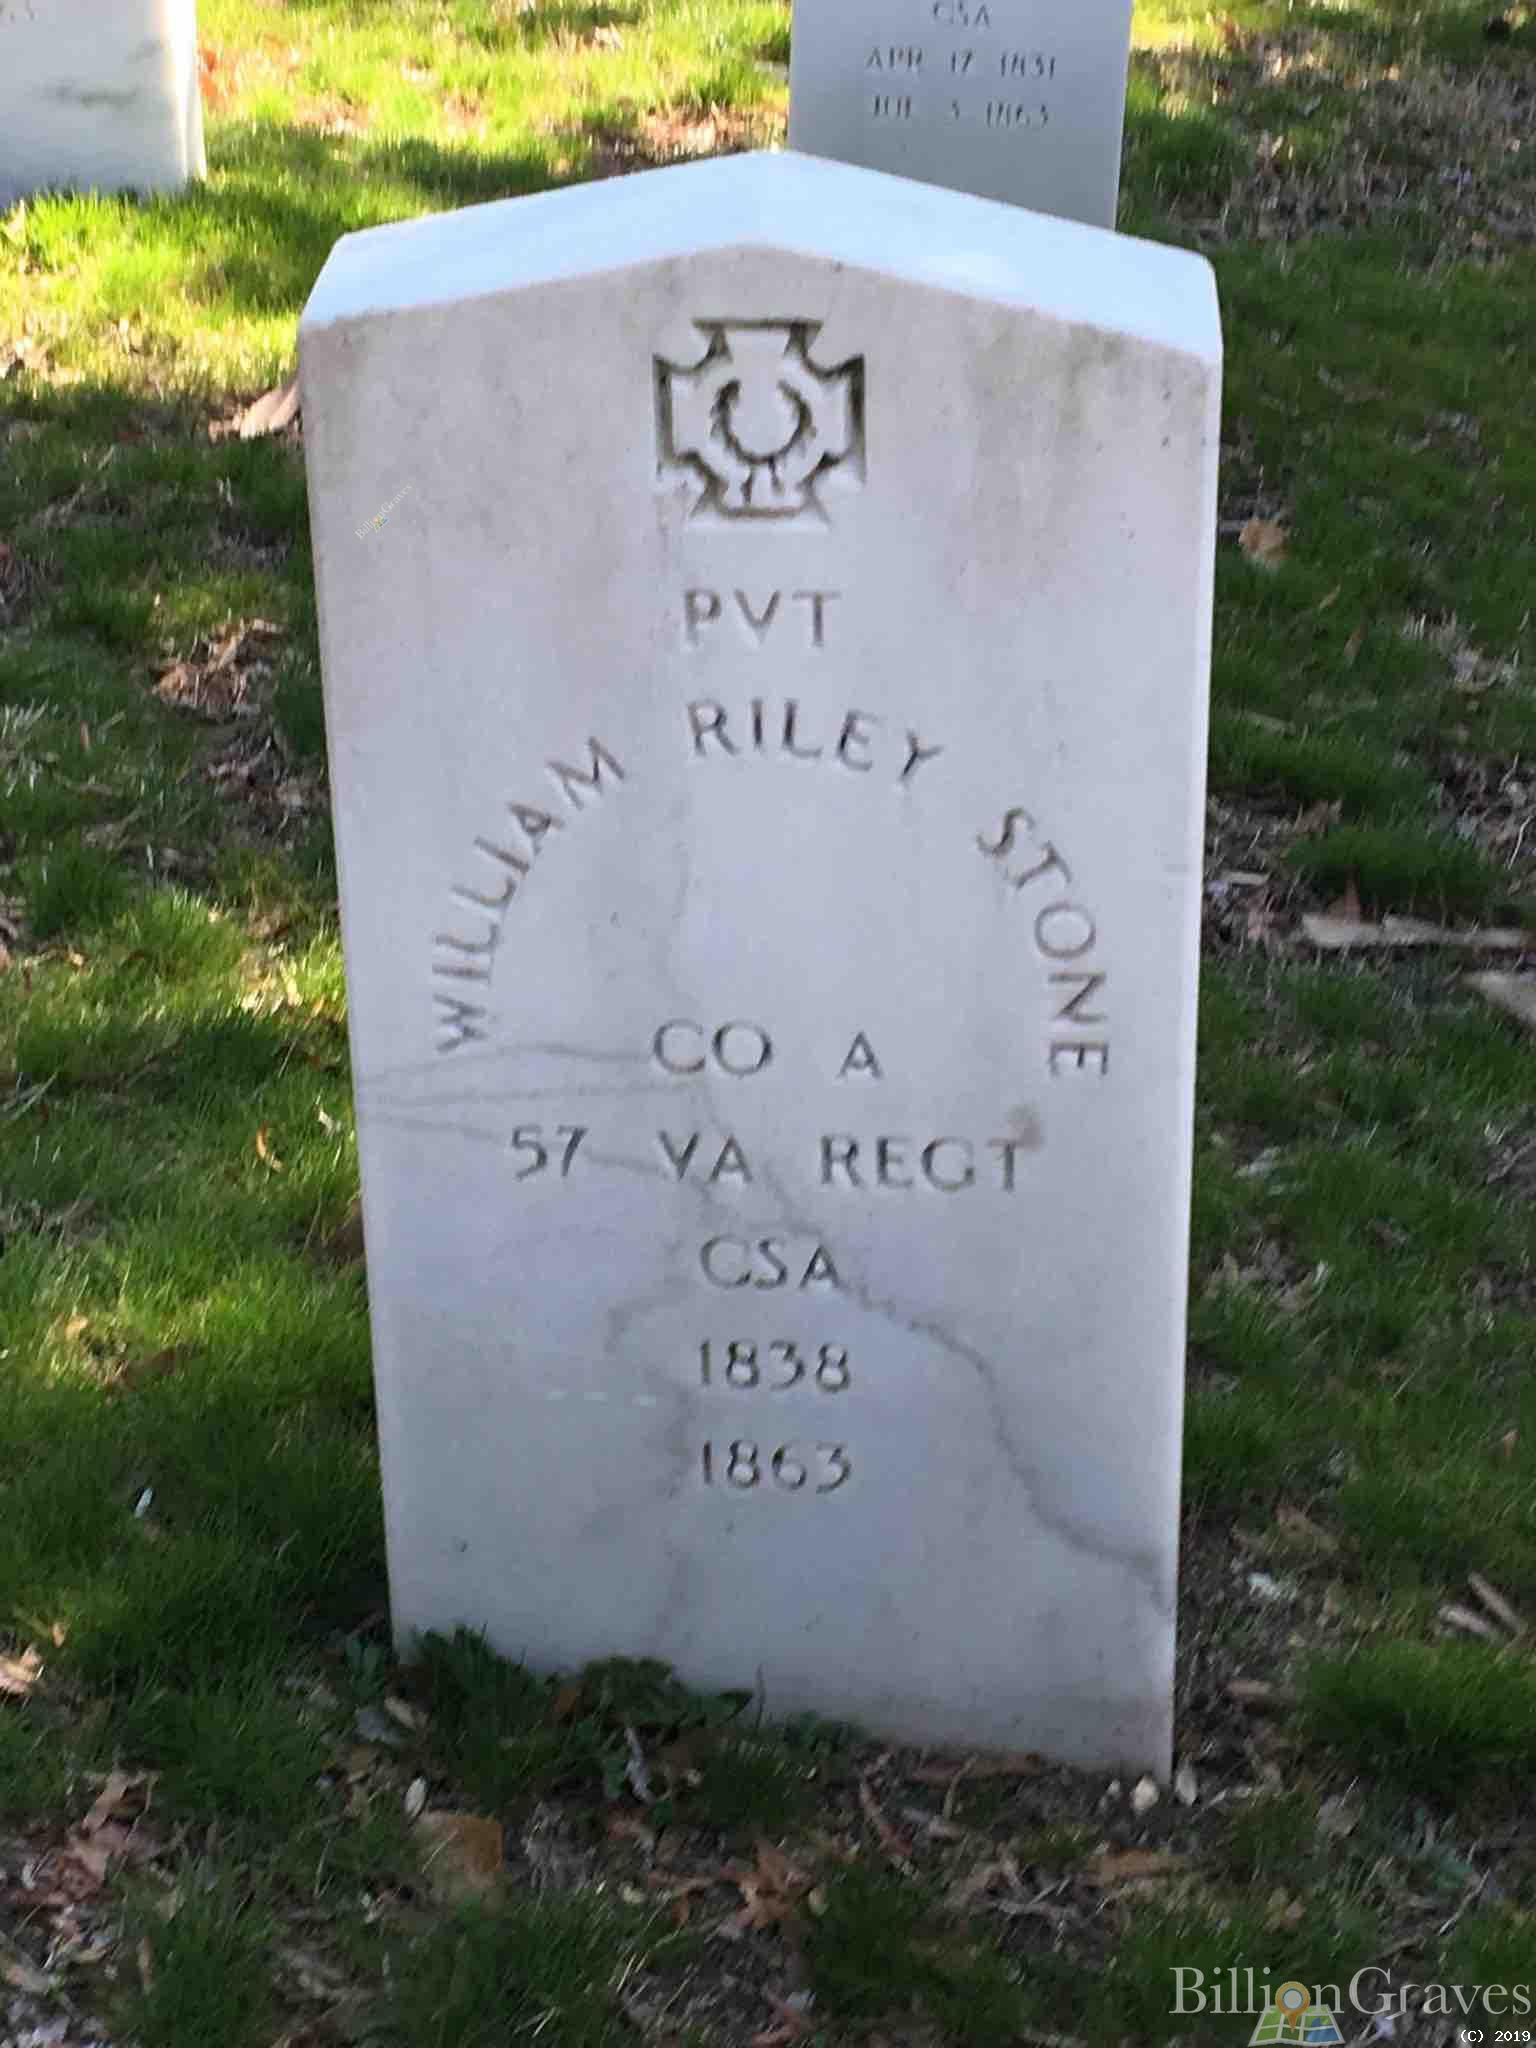military: (287, 145, 1225, 1764)
